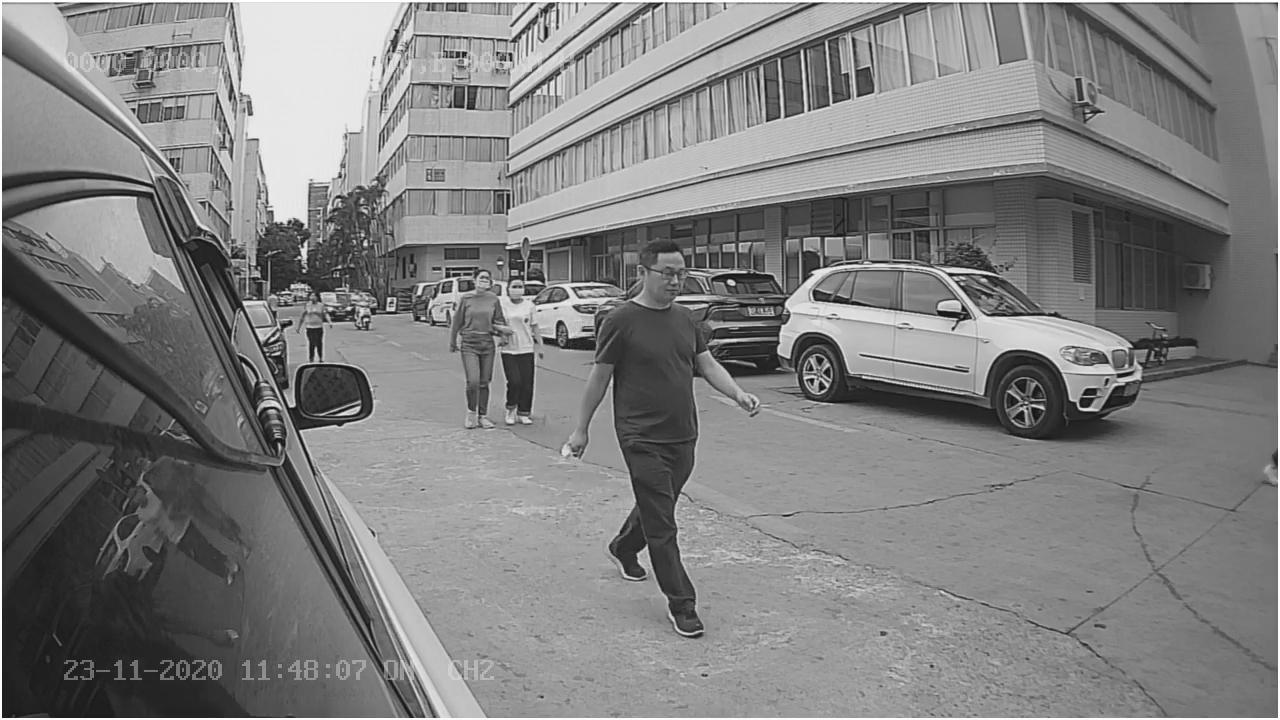person: (567, 229, 762, 633), (450, 263, 502, 436)
